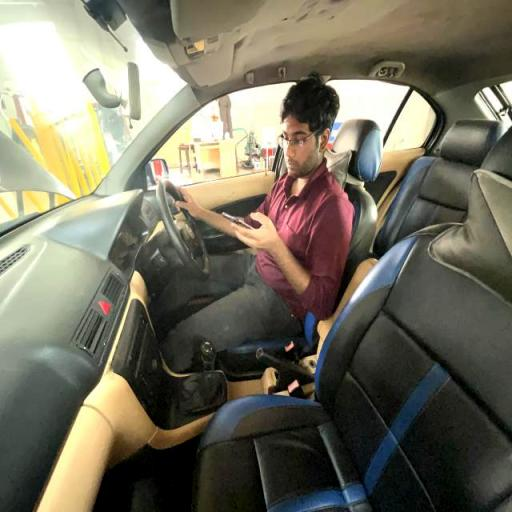Texting_on_phone: (166, 80, 356, 344)
